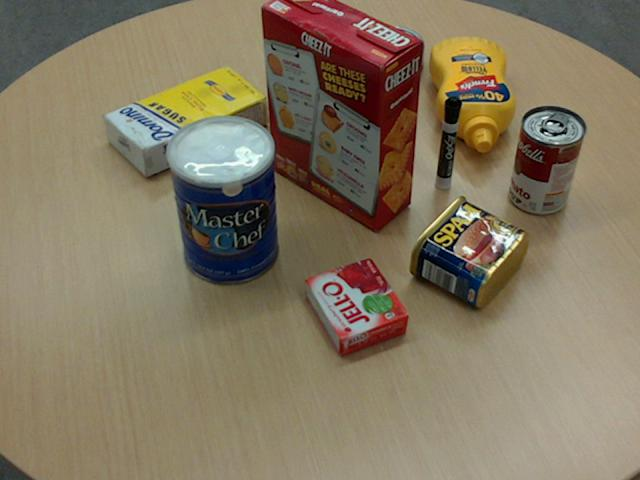cracker_box: (260, 0, 421, 230)
gelatin_box: (305, 257, 409, 355)
large_marker: (435, 96, 461, 188)
master_chef_can: (166, 114, 277, 285)
mug: (320, 33, 397, 126)
mustard_bottle: (428, 37, 514, 152)
potted_meat_can: (407, 194, 527, 306)
sugar_box: (102, 64, 268, 175)
tomato_soup_can: (509, 105, 585, 214)
tuna_fish_can: (359, 25, 423, 80)
